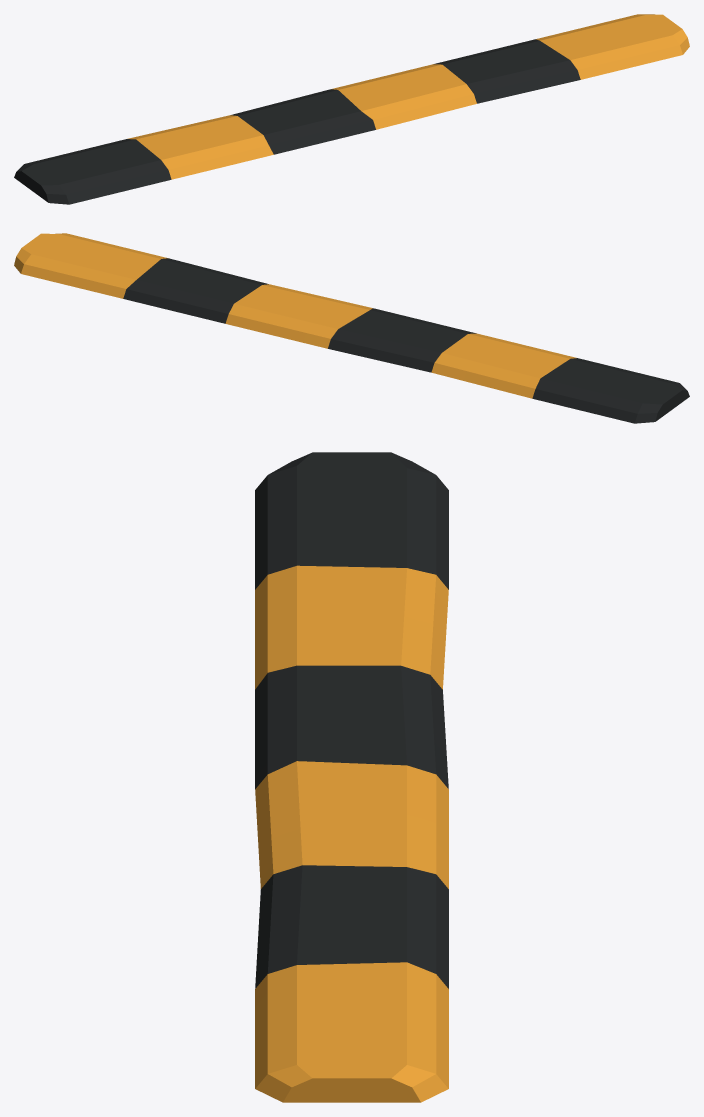
Rendered from SM_Prop_Speed_Bump_01.obj.
3 renders of one model, top to bottom at view 1: azimuth 30°, elevation 25°; view 2: azimuth 150°, elevation 25°; view 3: azimuth 270°, elevation 25°, orthographic. The views are drawn at different scales.
Parts seen in each view (by area): view 1: SM_Prop_Speed_Bump_01_0; view 2: SM_Prop_Speed_Bump_01_0; view 3: SM_Prop_Speed_Bump_01_0.
Boxes of the visible parts, bbox=[...] form: SM_Prop_Speed_Bump_01_0: bbox=[14, 14, 689, 204]; SM_Prop_Speed_Bump_01_0: bbox=[14, 233, 689, 423]; SM_Prop_Speed_Bump_01_0: bbox=[255, 452, 448, 1102].
Bounding box in the file's own units: 2.94 × 0.0529 × 0.3847.
Materials: 1 (1 with a texture image).
